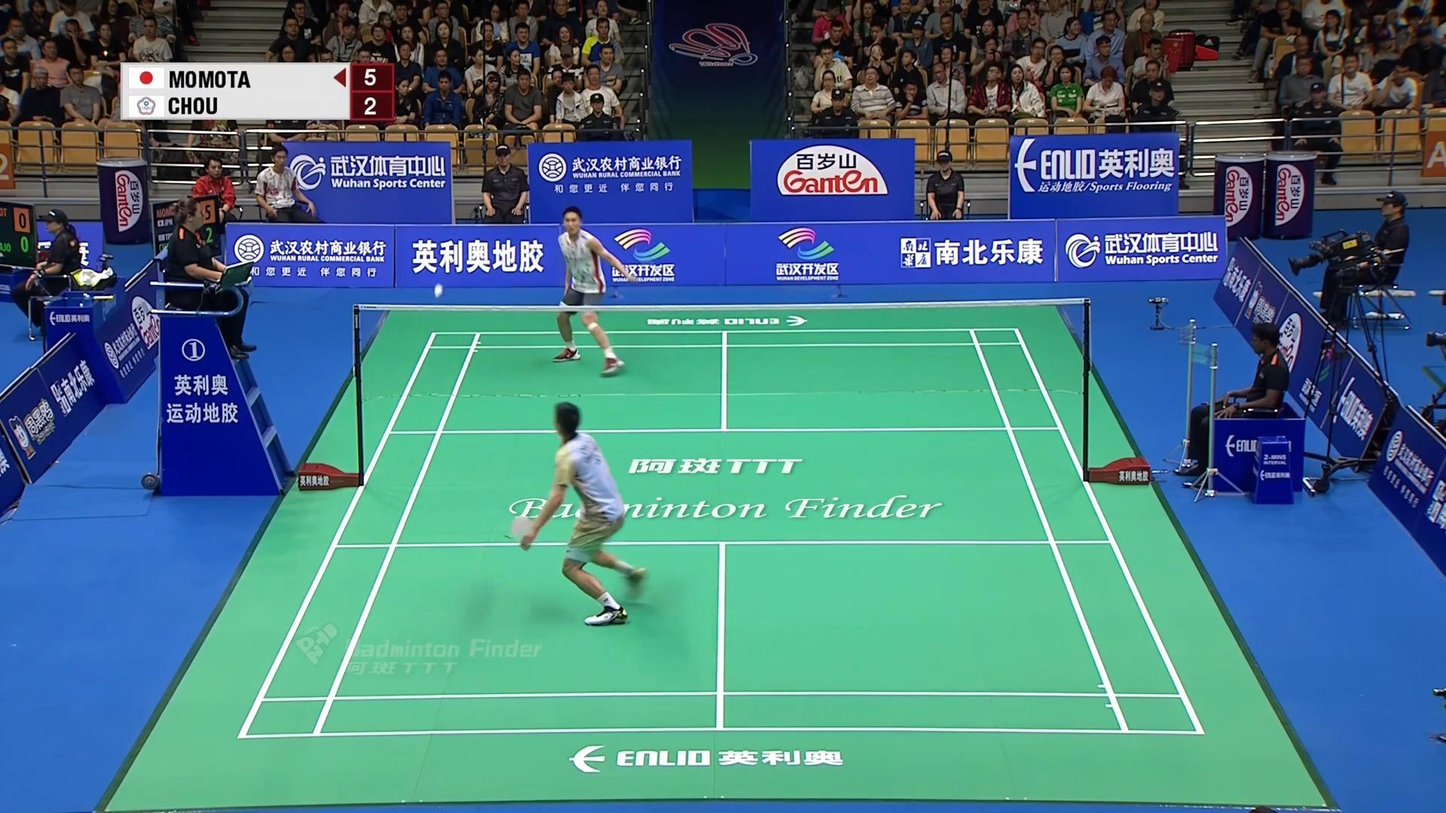shuttlecock: (434, 283, 443, 299)
